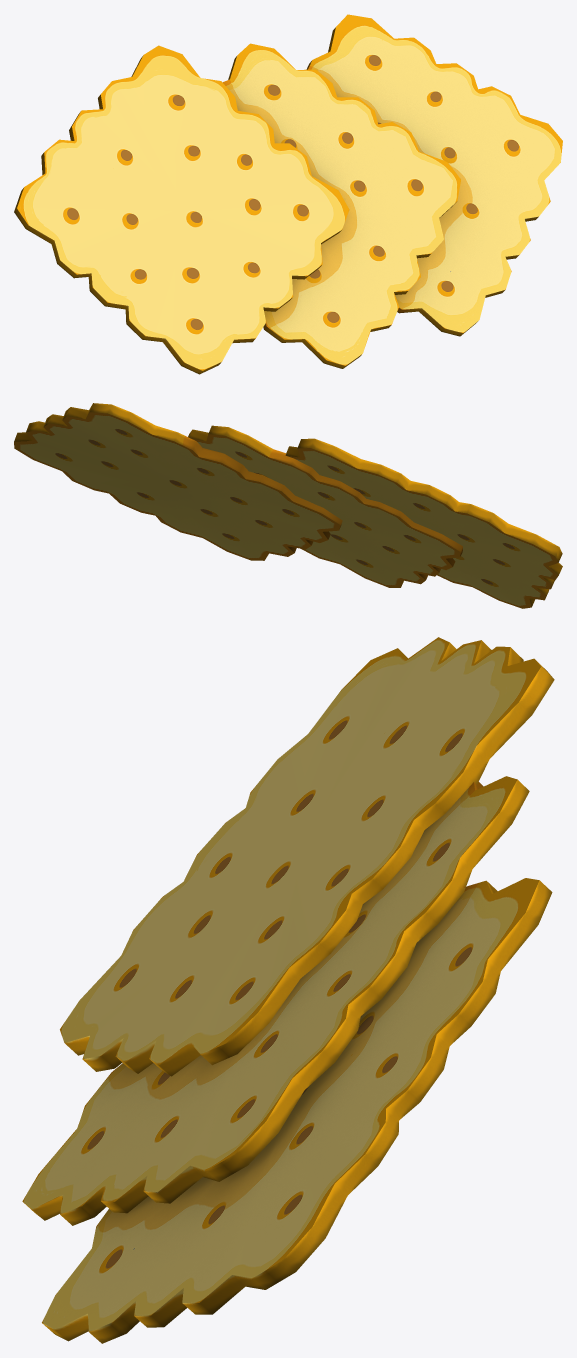
File: Biscuit.fbx
3 renders of one model, top to bottom at view 1: azimuth 30°, elevation 25°; view 2: azimuth 150°, elevation 25°; view 3: azimuth 270°, elevation 25°, orthographic. The views are drawn at different scales.
Parts seen in each view (by area): view 1: 033; view 2: 033; view 3: 033.
Part boxes in pixels (x1,y1,x2,y2): 033: (14,14,562,374); 033: (14,403,562,608); 033: (22,637,554,1343).
Bounding box in the file's own units: 57.04 × 25.59 × 25.09.
Materials: 1 (1 with a texture image).
